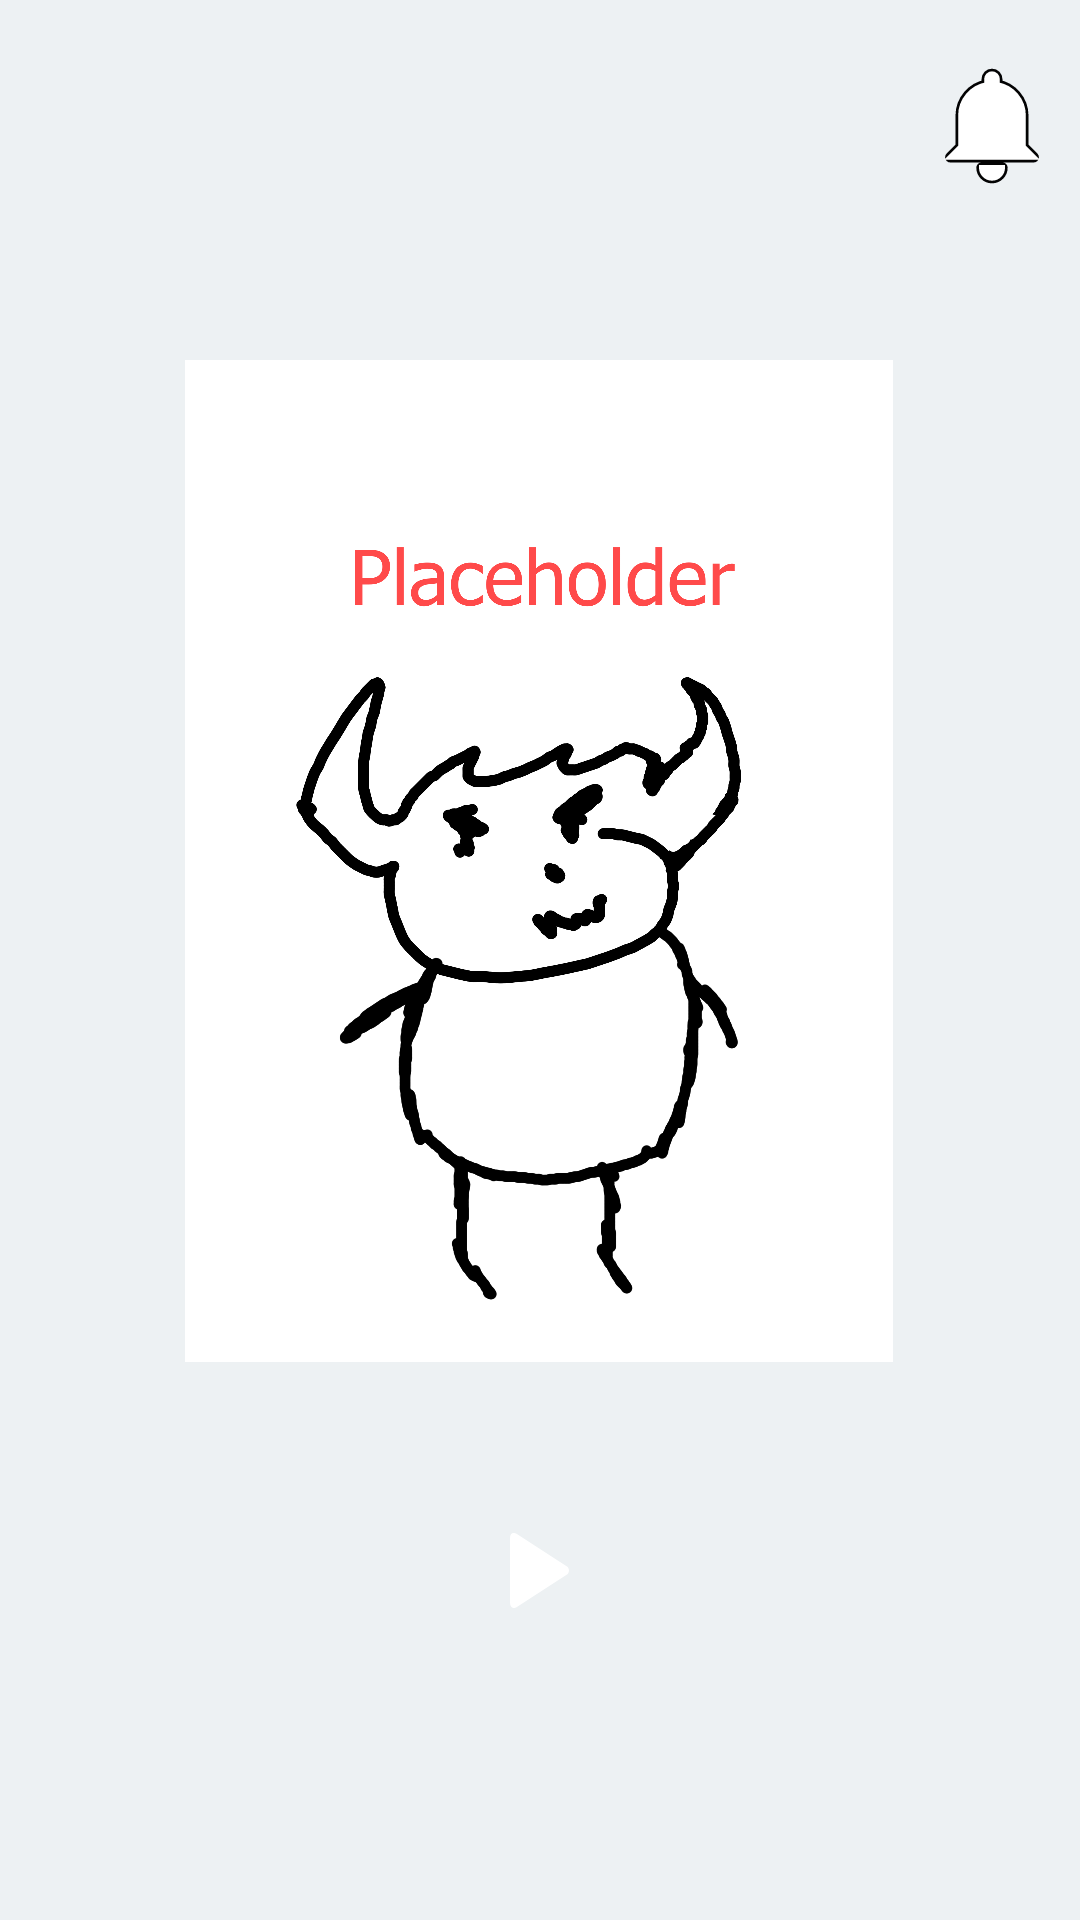

Screen size 1080 × 1920. Icon name, then its box in pixels as (x1, y1, x2, y2):
notification bell: (945, 68, 1039, 184)
